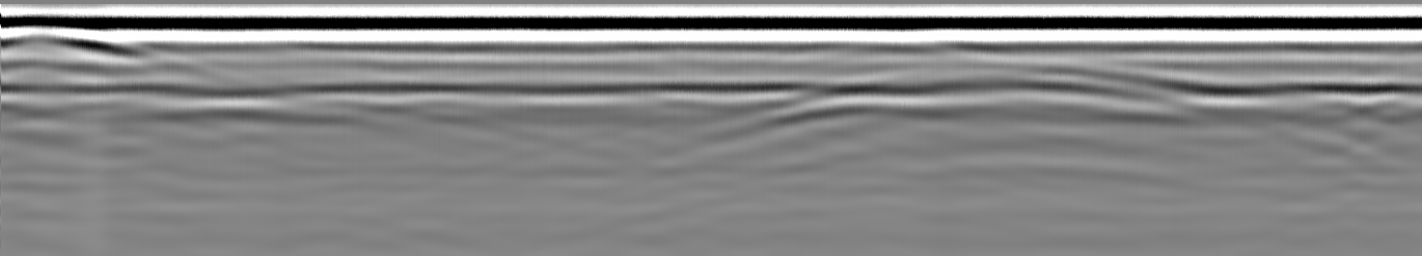pipe: (2, 16, 139, 62)
